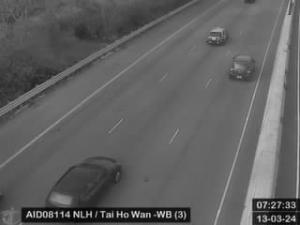vehicle: (46, 158, 124, 212), (228, 54, 256, 82), (206, 29, 228, 46)
